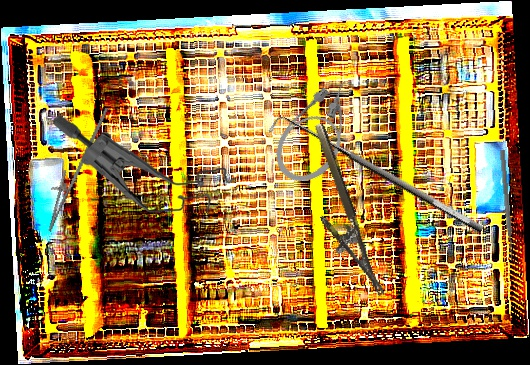Cannula: (263, 69, 376, 194)
Hook Surgical: (266, 105, 486, 250)
Needle Holder: (291, 122, 385, 306), (38, 99, 109, 237)
Pusher: (498, 149, 516, 262)
Speculum: (52, 107, 237, 220)
